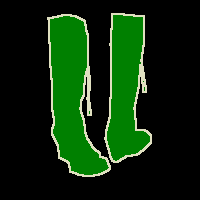shoe: (48, 14, 110, 176), (105, 13, 151, 162)
